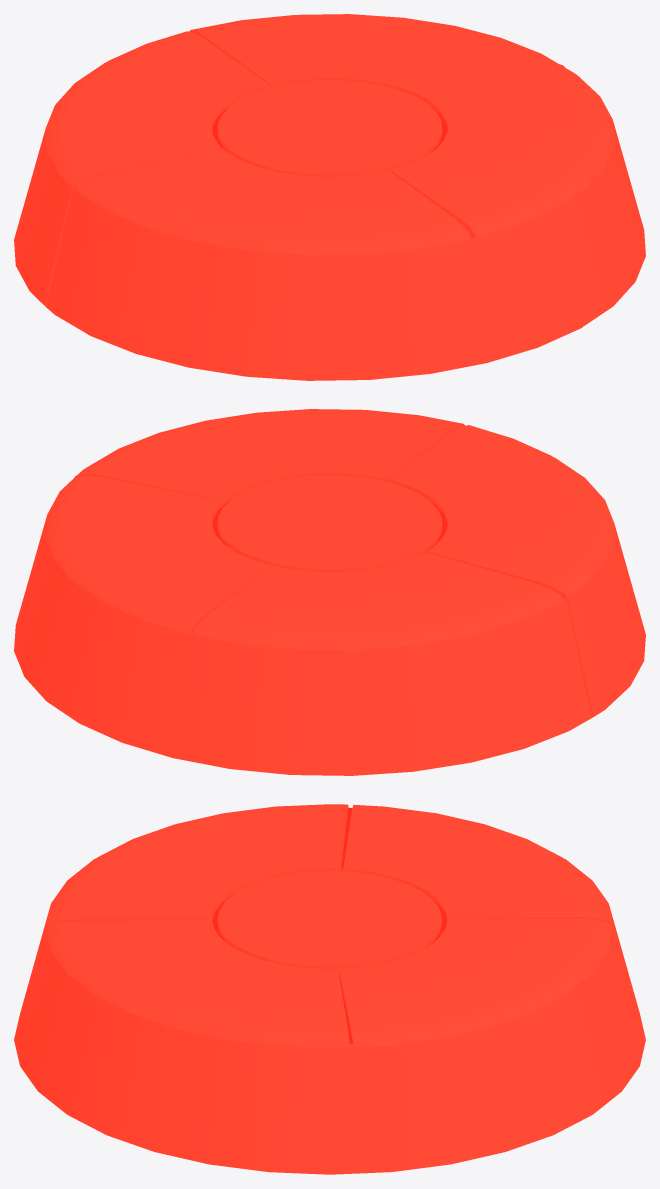
The model's file is BotonSolo.fbx.
3 renders of one model, top to bottom at view 1: azimuth 30°, elevation 25°; view 2: azimuth 150°, elevation 25°; view 3: azimuth 270°, elevation 25°, orthographic.
Visible parts, largest first — view 1: Cylinder.001; view 2: Cylinder.001; view 3: Cylinder.001.
Part boxes in pixels (bbox=[...]): Cylinder.001: bbox=[14, 14, 645, 380]; Cylinder.001: bbox=[14, 409, 645, 775]; Cylinder.001: bbox=[14, 804, 645, 1174].
Bounding box in the file's own units: 48.9 × 10.23 × 48.44.
